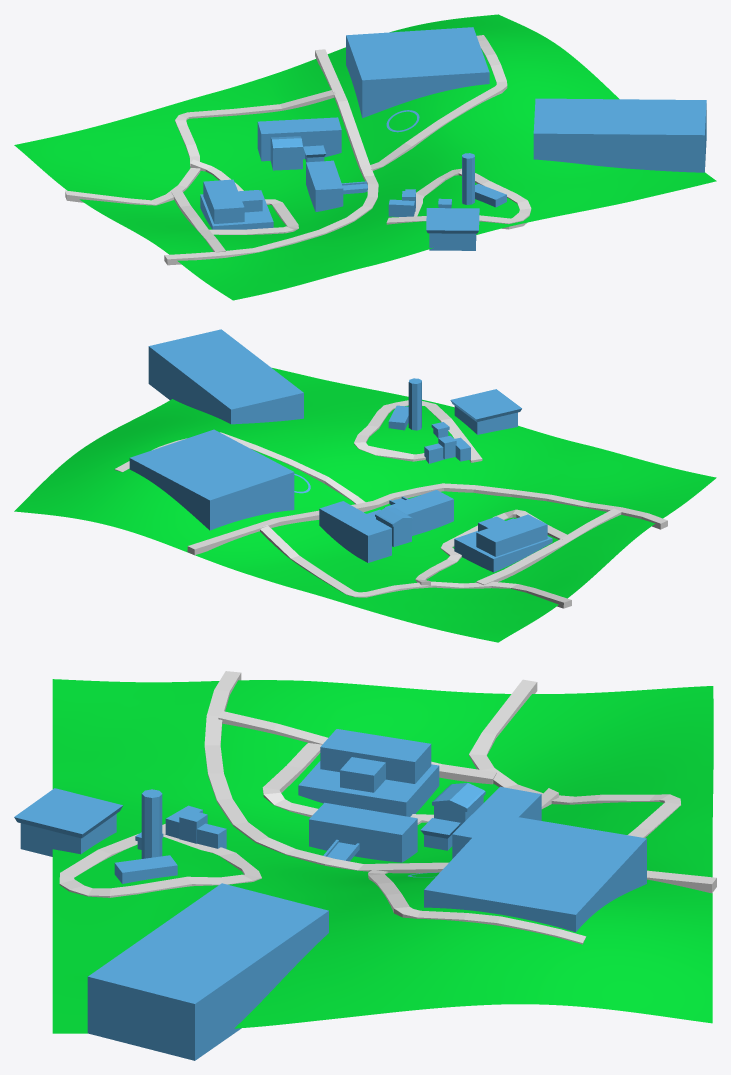
The model's file is IPEN.glb.
3 renders of one model, top to bottom at view 1: azimuth 30°, elevation 25°; view 2: azimuth 150°, elevation 25°; view 3: azimuth 270°, elevation 25°, orthographic. The views are drawn at different scales.
Visible parts, largest first — view 1: Ground, Buildings, Streets; view 2: Ground, Buildings, Streets; view 3: Ground, Buildings, Streets.
Part boxes in pixels (x1,y1,x2,y2): Ground: (14, 14, 716, 300); Buildings: (200, 27, 706, 250); Streets: (65, 35, 531, 265); Ground: (14, 368, 716, 642); Buildings: (129, 329, 552, 572); Streets: (114, 400, 667, 608); Ground: (52, 679, 713, 1033); Buildings: (14, 729, 646, 1060); Streets: (59, 671, 716, 944).
Bounding box in the file's own units: 89.92 × 13.84 × 68.2.
